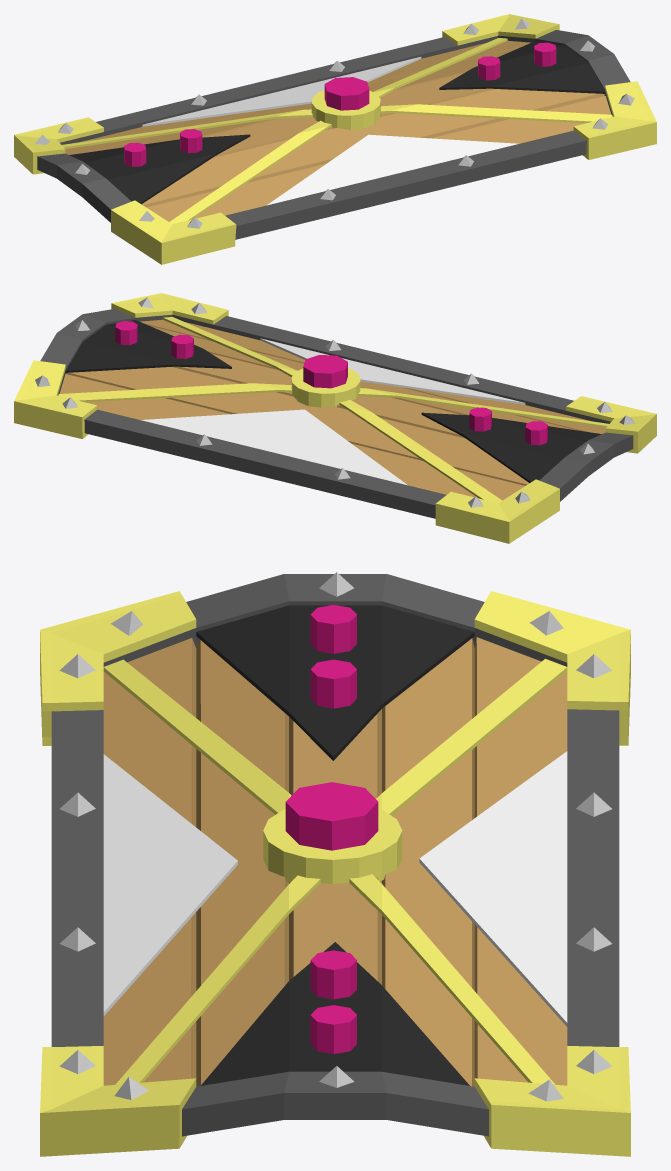
Rendered from Shield_2_e_wood.fbx.
The picture shows the model from 3 angles, top to bottom: view 1: azimuth 30°, elevation 25°; view 2: azimuth 150°, elevation 25°; view 3: azimuth 270°, elevation 25°; orthographic projection. The views are drawn at different scales.
Visible parts, largest first — view 1: Plane.088, Plane.090, Plane.093, Plane.087, Plane.091, Plane.089, Circle.055, Circle.054, Cone.172, Cone.171, Circle.059, Circle.058 (+2 smaller); view 2: Plane.088, Plane.090, Plane.093, Plane.091, Plane.087, Plane.089, Circle.055, Circle.054, Cone.172, Cone.171, Circle.057, Circle.056 (+2 smaller); view 3: Plane.088, Plane.090, Plane.093, Plane.091, Plane.087, Plane.089, Circle.055, Circle.054, Cone.172, Cone.171, Circle.059, Circle.057 (+2 smaller).
Boxes of the visible parts, bbox=[...] form: Plane.088: bbox=[65, 40, 611, 221]; Plane.090: bbox=[37, 30, 630, 239]; Plane.093: bbox=[14, 14, 656, 264]; Plane.087: bbox=[69, 41, 605, 204]; Plane.091: bbox=[142, 57, 518, 205]; Plane.089: bbox=[62, 38, 612, 224]; Circle.055: bbox=[311, 90, 380, 129]; Circle.054: bbox=[324, 77, 369, 110]; Cone.172: bbox=[35, 18, 634, 228]; Cone.171: bbox=[75, 40, 594, 200]; Circle.059: bbox=[478, 56, 500, 80]; Circle.058: bbox=[534, 42, 556, 66]; Plane.088: bbox=[59, 319, 605, 500]; Plane.090: bbox=[40, 309, 633, 518]; Plane.093: bbox=[14, 293, 656, 543]; Plane.091: bbox=[141, 338, 525, 485]; Plane.087: bbox=[65, 320, 601, 482]; Plane.089: bbox=[58, 317, 608, 503]; Circle.055: bbox=[291, 368, 360, 407]; Circle.054: bbox=[303, 355, 347, 388]; Cone.172: bbox=[35, 297, 634, 507]; Cone.171: bbox=[75, 320, 594, 479]; Circle.057: bbox=[469, 407, 491, 431]; Circle.056: bbox=[525, 421, 547, 445]; Plane.088: bbox=[103, 637, 567, 1086]; Plane.090: bbox=[51, 574, 619, 1136]; Plane.093: bbox=[40, 591, 630, 1156]; Plane.091: bbox=[103, 751, 567, 1026]; Plane.087: bbox=[196, 605, 474, 1085]; Plane.089: bbox=[103, 659, 567, 1084]; Circle.055: bbox=[263, 809, 402, 884]; Circle.054: bbox=[285, 782, 378, 850]; Cone.172: bbox=[59, 611, 612, 1101]; Cone.171: bbox=[59, 572, 612, 1087]; Circle.059: bbox=[310, 950, 356, 999]; Circle.057: bbox=[310, 659, 356, 708].
Size of the model in its own units: 132 by 19.53 by 63.7.
